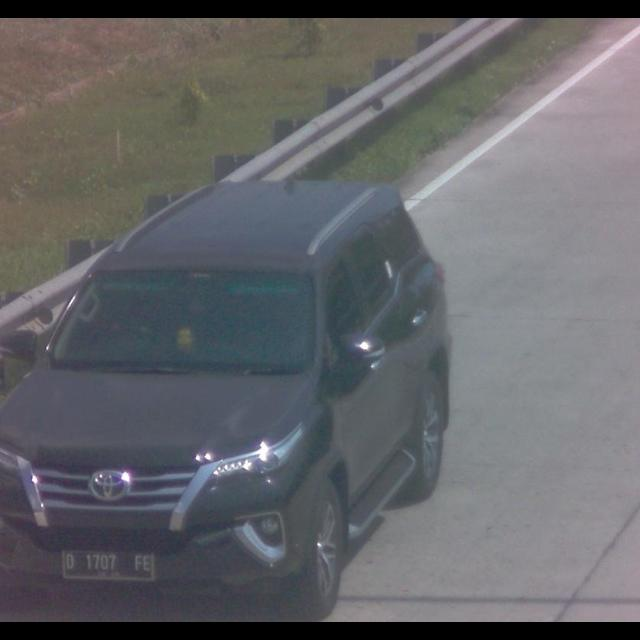plate: (60, 546, 156, 578)
